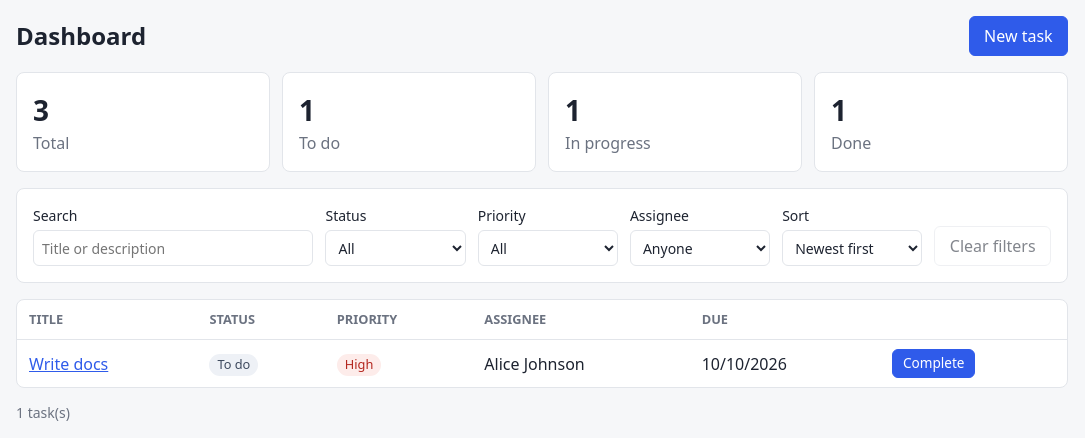
it: DashboardPage › completes a task and refreshes the list and summary
The image size is (1085, 438).
expect the link "Write docs" is shown: met, box [29, 352, 108, 374]
Step 1. Click the button with aria-label "Complete Write docs" → (934,364), box [892, 349, 975, 378]
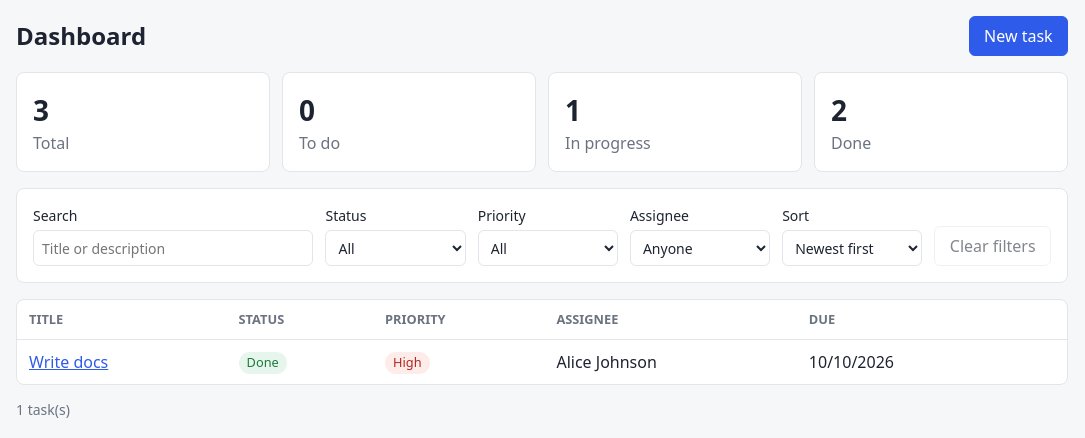
expect the text "Done" next to "Write docs" is shown: met, box [246, 353, 279, 371]
expect the text "2" is shown: met, box [831, 91, 847, 129]
